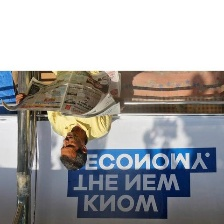news_paper: (0, 70, 124, 119)
